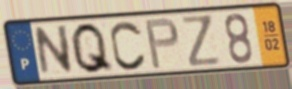8: (223, 11, 254, 65)
C: (109, 19, 149, 72)
N: (32, 23, 75, 79)
P: (143, 16, 182, 71)
Q: (69, 20, 116, 76)
Z: (179, 13, 223, 69)
